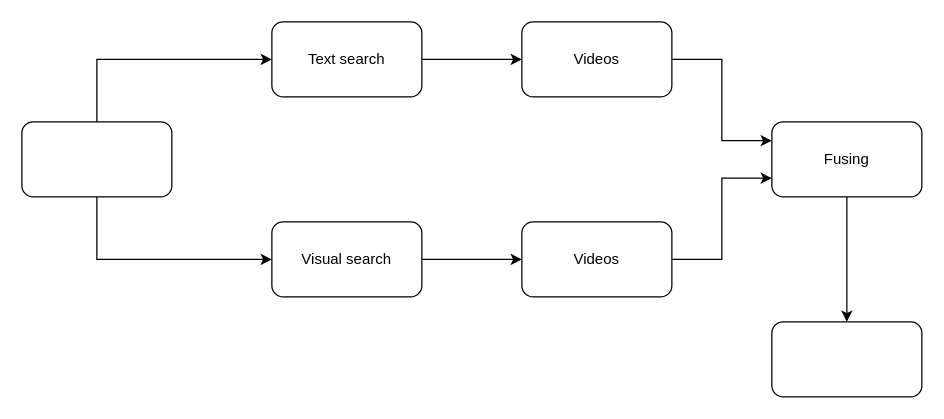
The diagram is 944 pixels wide and 419 high, and some of its shapes have lost their labels. Here are the shapes that lost their labels. From the top down, the centre of each, then its label:
At point 96,159: "Text query".
At point 846,359: "Result".
